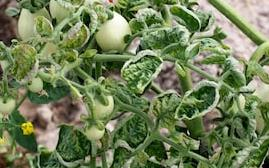Tomato leaf yellow virus: (117, 50, 167, 93), (173, 79, 220, 121), (114, 4, 163, 40), (10, 42, 38, 93), (137, 23, 187, 47), (150, 90, 186, 121)
